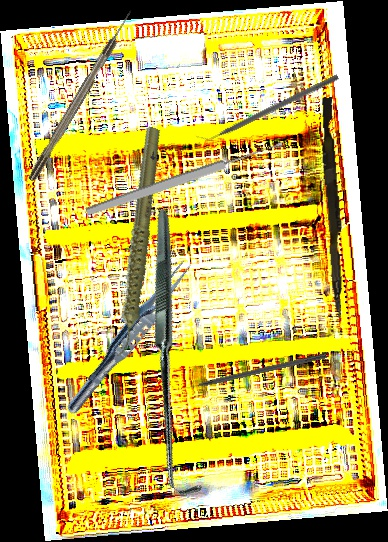Chopper: (194, 66, 340, 148)
Handpiece: (65, 125, 207, 359)
Hook Surgical: (30, 209, 323, 502), (25, 8, 137, 183), (179, 351, 327, 392)
Pusher: (315, 97, 352, 319)
Surgical Spoon: (84, 138, 285, 219)
Tissue Forceps: (61, 251, 198, 422)
